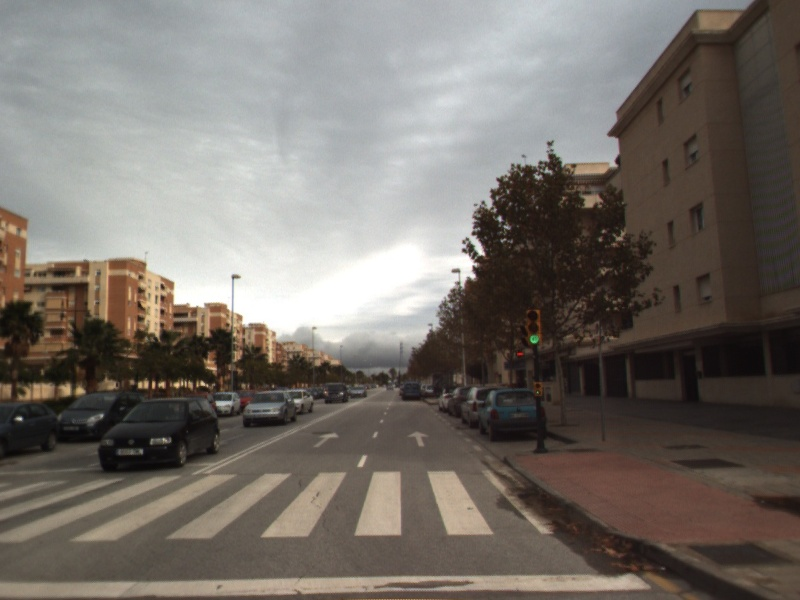STRAIGHT: (311, 430, 341, 449), (405, 428, 432, 448)
